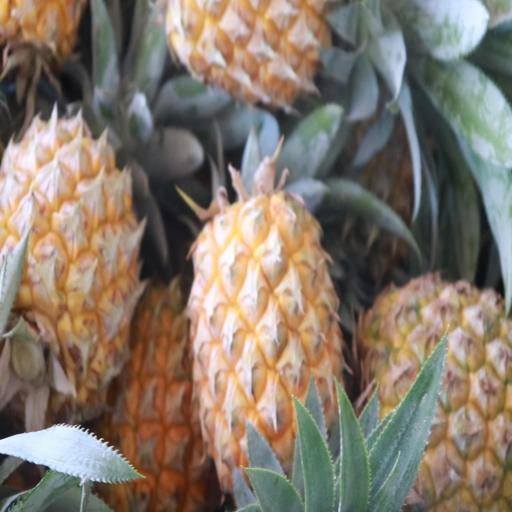Pineapple - v8 v1: (193, 194, 344, 502), (0, 115, 141, 395), (361, 274, 512, 510), (108, 281, 215, 512)
